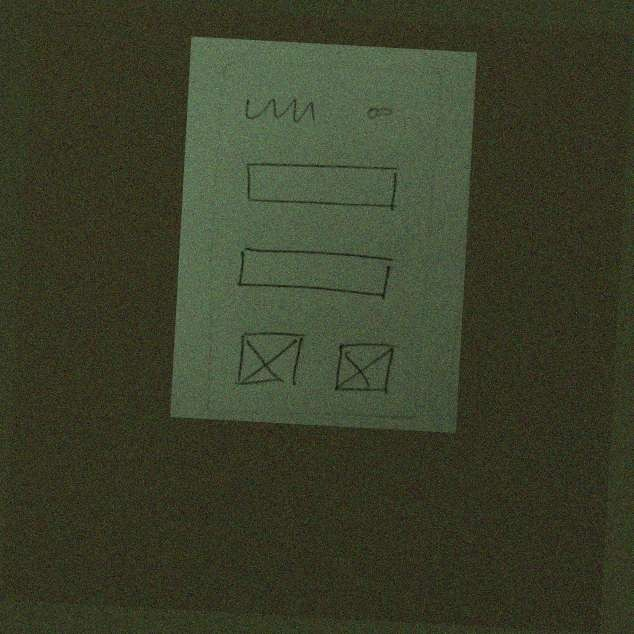image: (233, 324, 309, 396), (327, 337, 402, 402)
switch: (357, 97, 399, 128)
text: (238, 90, 321, 130)
text_input: (233, 153, 406, 220), (229, 242, 397, 304)
